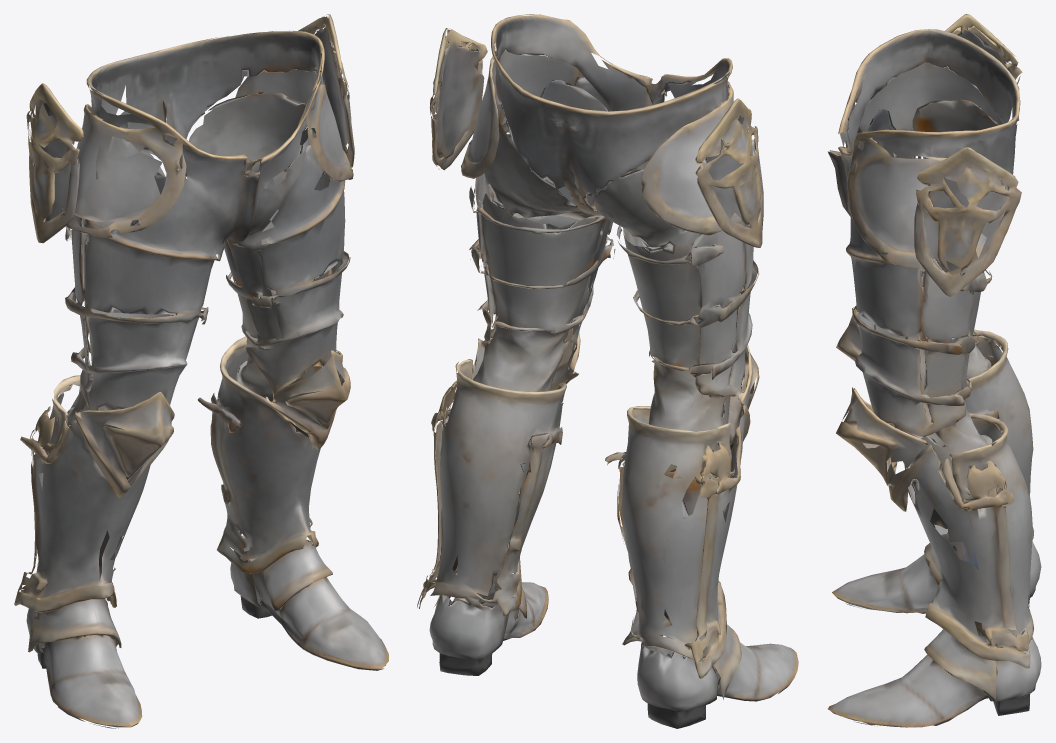
Rendered from armor_warrior_plate_legs.glb.
The picture shows the model from 3 angles, left to right: view 1: azimuth 30°, elevation 25°; view 2: azimuth 150°, elevation 25°; view 3: azimuth 270°, elevation 25°; orthographic projection. The views are drawn at different scales.
Visible parts, largest first — view 1: world; view 2: world; view 3: world.
Boxes of the visible parts, x1,y1,x2,y2 form: world: (14,14,388,728); world: (417,14,798,728); world: (828,14,1041,727).
Bounding box in the file's own units: 0.5455 × 1 × 0.3368.
Materials: 1 (1 with a texture image).
